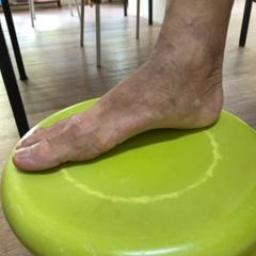Medial View -Right Foot-: (2, 20, 238, 182)
